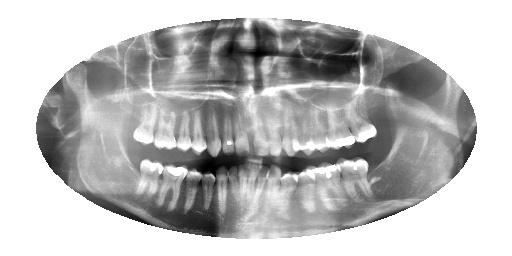i10healthy: (224, 157, 240, 219)
i11healthy: (213, 163, 229, 221)
i12healthy: (198, 161, 216, 219)
i13healthy: (180, 158, 206, 224)
i14healthy: (156, 159, 189, 221)
i15healthy: (131, 145, 166, 212)
i2healthy: (334, 147, 375, 213)
i3healthy: (307, 157, 348, 213)
i4healthy: (289, 161, 322, 224)
i5healthy: (276, 164, 299, 221)
i6healthy: (261, 156, 284, 219)
i7healthy: (245, 156, 272, 225)
i8healthy: (243, 150, 263, 217)
i9healthy: (233, 157, 249, 218)
u10healthy: (221, 96, 238, 160)
u11healthy: (201, 90, 223, 164)
u12healthy: (188, 106, 207, 160)
u13healthy: (170, 98, 196, 155)
u14healthy: (150, 99, 183, 159)
u15healthy: (129, 100, 159, 151)
u2healthy: (343, 90, 379, 148)
u3healthy: (322, 91, 357, 153)
u4healthy: (303, 93, 332, 158)
u5healthy: (290, 94, 316, 161)
u6healthy: (279, 91, 301, 162)
u7healthy: (267, 95, 285, 162)
u8healthy: (247, 92, 271, 164)
u9healthy: (229, 95, 250, 160)
